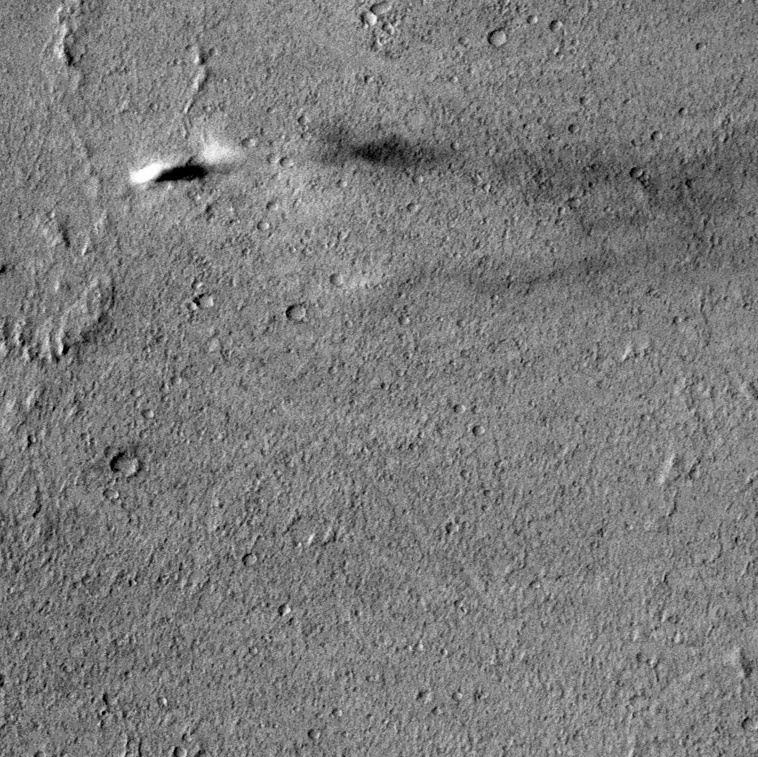dust_devil: (127, 141, 244, 185)
